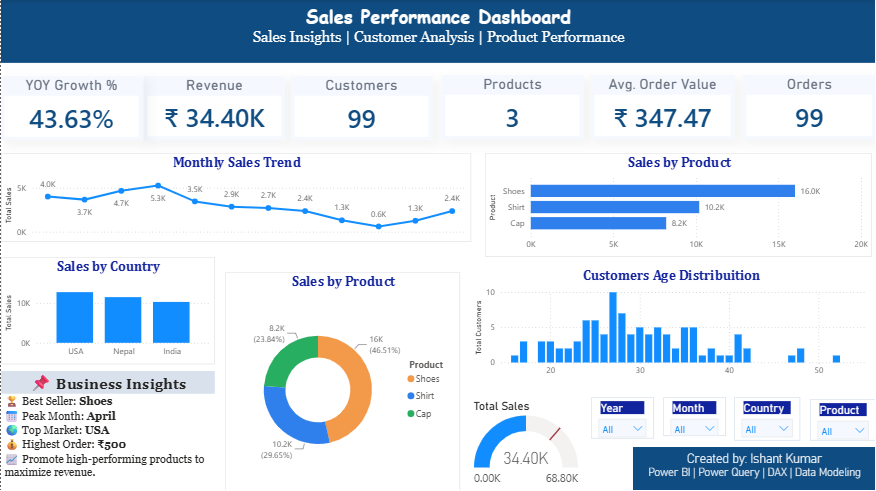

The page's visual inventory and layout, read from the dashboard file:
{"tool":"powerbi","page":{"name":"Sales Dashboard","canvas":[1280,720],"ordinal":0},"visuals":[{"type":"textbox","box":[0,0,1280.5,92.2],"z":0},{"type":"cardVisual","title":"Revenue","fields":{"Data":["FactSales.Total Sales"]},"box":[209.3,111.2,206.3,93.7],"z":1000},{"type":"cardVisual","title":"Customers","fields":{"Data":["FactSales.Total Customers"]},"box":[425,110.9,206.6,94.1],"z":2000},{"type":"cardVisual","title":"Products","fields":{"Data":["FactSales.Unique Products"]},"box":[645,109.2,206.6,94.1],"z":3000},{"type":"cardVisual","title":"Avg. Order Value","fields":{"Data":["FactSales.Average Sale"]},"box":[863.4,109.2,210,94.1],"z":4000},{"type":"cardVisual","title":"Orders","fields":{"Data":["FactSales.Total Transactions"]},"box":[1085.1,109.2,194.9,94.1],"z":5000},{"type":"lineChart","title":"Monthly Sales Trend","fields":{"Category":["Date.Month"],"Y":["FactSales.Total Sales"]},"box":[0,223.9,687.8,130.2],"z":6000},{"type":"clusteredBarChart","title":"Sales by  Product","fields":{"Category":["DimProduct. Product"],"Y":["FactSales.Total Sales"]},"box":[708.3,223.9,566.3,152.2],"z":7000},{"type":"clusteredColumnChart","title":"Sales by  Country","fields":{"Category":["DimCustomer. Country"],"Y":["FactSales.Total Sales"]},"box":[0,376.1,313.2,156.6],"z":8000},{"type":"donutChart","title":"Sales by  Product","fields":{"Category":["DimProduct. Product"],"Y":["FactSales.Total Sales"]},"box":[327.8,398,343.9,322],"z":9000},{"type":"clusteredColumnChart","title":"Customers  Age Distribuition","fields":{"Category":["DimCustomer. Age"],"Y":["FactSales.Total Customers"]},"box":[687.8,390.7,586.8,169.8],"z":10000},{"type":"slicer","fields":{"Values":["DimCustomer. Country"]},"box":[1072.7,581,96.6,64.4],"z":11000},{"type":"slicer","fields":{"Values":["DimProduct. Product"]},"box":[1183.9,583.9,96.6,61.5],"z":12000},{"type":"slicer","fields":{"Values":["Date.Date.Variation.Date Hierarchy.Year"]},"box":[863.4,581,92.2,61.5],"z":13000},{"type":"textbox","title":"📌 Business Insights","box":[0,542.9,313.2,177.1],"z":14000},{"type":"cardVisual","title":"YOY Growth %","fields":{"Data":["FactSales.YoY Growth %"]},"box":[0,110.9,206.6,94.1],"z":15000},{"type":"textbox","box":[924.9,654.1,355.6,65.9],"z":16000},{"type":"slicer","fields":{"Values":["Date.Month"]},"box":[968.8,581,92.2,57.1],"z":17000},{"type":"gauge","fields":{"Y":["FactSales.Total Sales"]},"box":[686.3,583.9,163.9,136.1],"z":17001}]}

Visuals, with their boxes in screenshot pixels (x1, y1, x2, y2), scaled from the page's 1280x720 canvas onto the 876x491 screenshot:
textbox: 0,0,875,63
"Revenue" cardVisual: 143,76,284,140
"Customers" cardVisual: 291,76,432,140
"Products" cardVisual: 441,74,583,139
"Avg. Order Value" cardVisual: 591,74,735,139
"Orders" cardVisual: 743,74,875,139
"Monthly Sales Trend" lineChart: 0,153,471,241
"Sales by  Product" clusteredBarChart: 485,153,872,256
"Sales by  Country" clusteredColumnChart: 0,256,214,363
"Sales by  Product" donutChart: 224,271,460,490
"Customers  Age Distribuition" clusteredColumnChart: 471,266,872,382
slicer - DimCustomer. Country: 734,396,800,440
slicer - DimProduct. Product: 810,398,875,440
slicer - Date.Date.Variation.Date Hierarchy.Year: 591,396,654,438
"📌 Business Insights" textbox: 0,370,214,490
"YOY Growth %" cardVisual: 0,76,141,140
textbox: 633,446,875,490
slicer - Date.Month: 663,396,726,435
gauge - FactSales.Total Sales: 470,398,582,490
